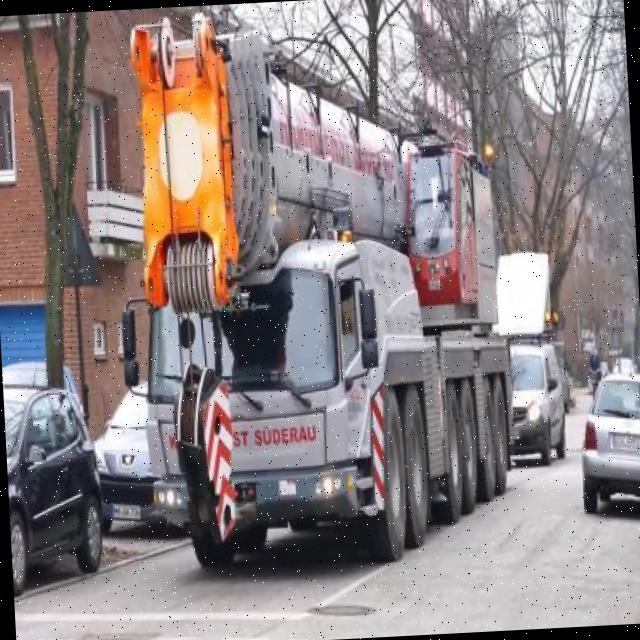Mobile Crane: (128, 5, 520, 566)
